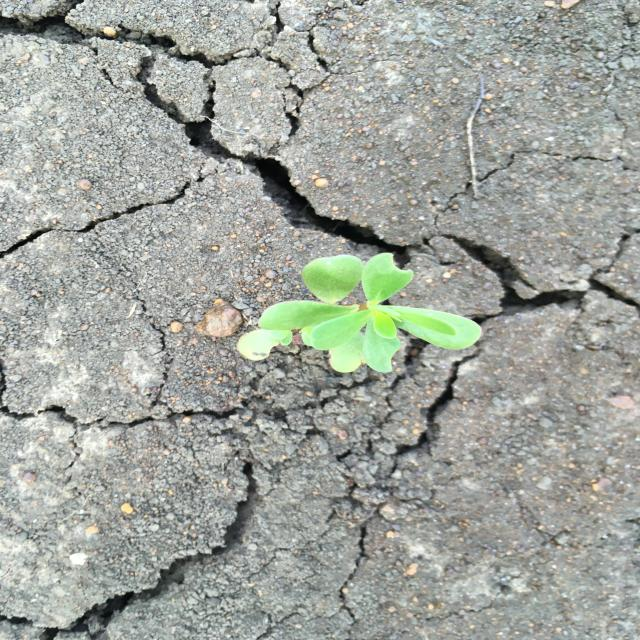Purslane: (235, 251, 483, 375)
